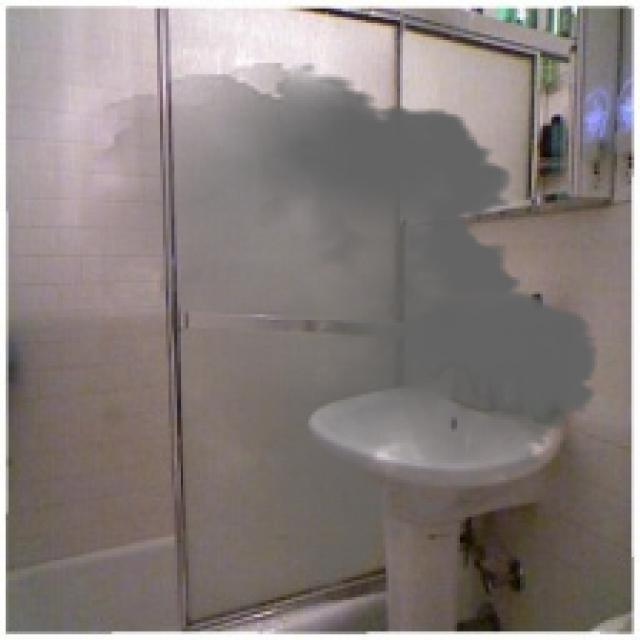Smoke: (74, 63, 617, 592)
